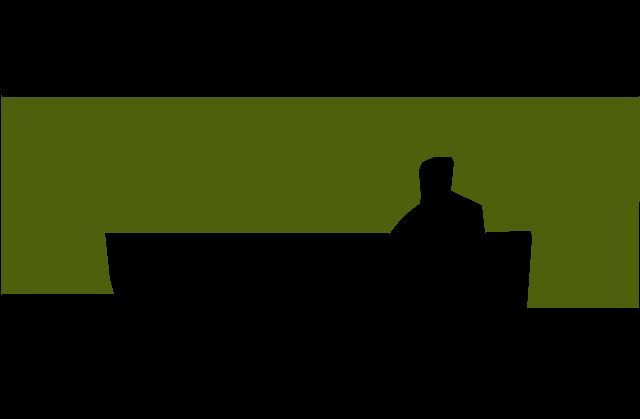Train: (1, 95, 639, 307)
